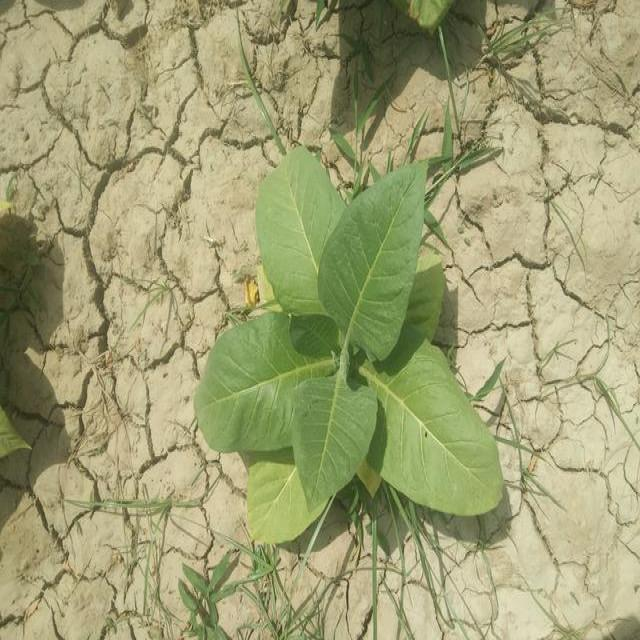crop: (183, 150, 512, 540)
